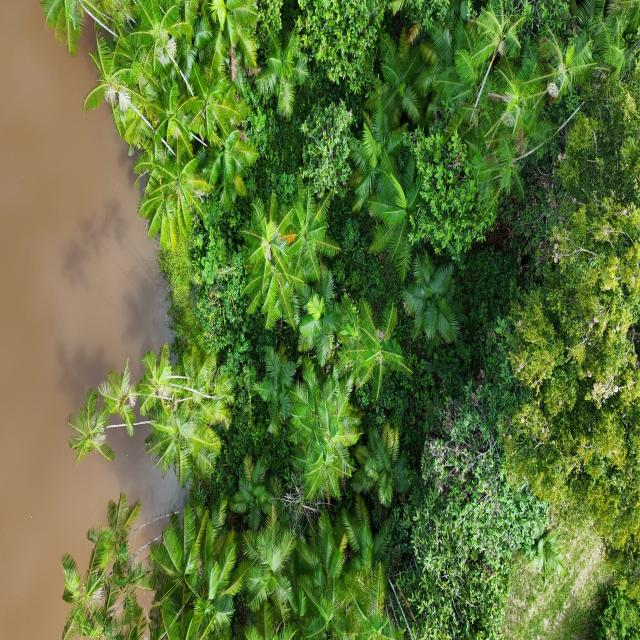vegetation: (39, 1, 638, 638)
